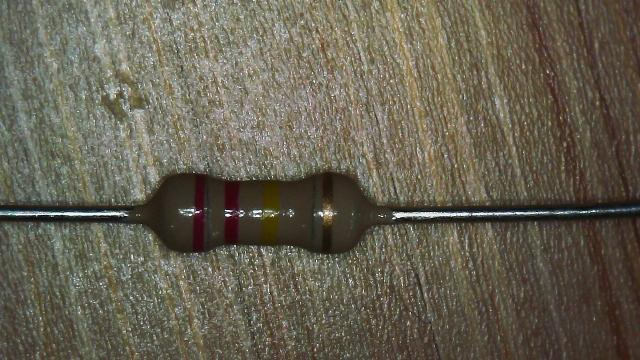gold: (324, 172, 332, 251)
red: (193, 173, 206, 253), (226, 180, 239, 244)
resistor: (126, 151, 400, 269)
yellow: (262, 176, 278, 244)
